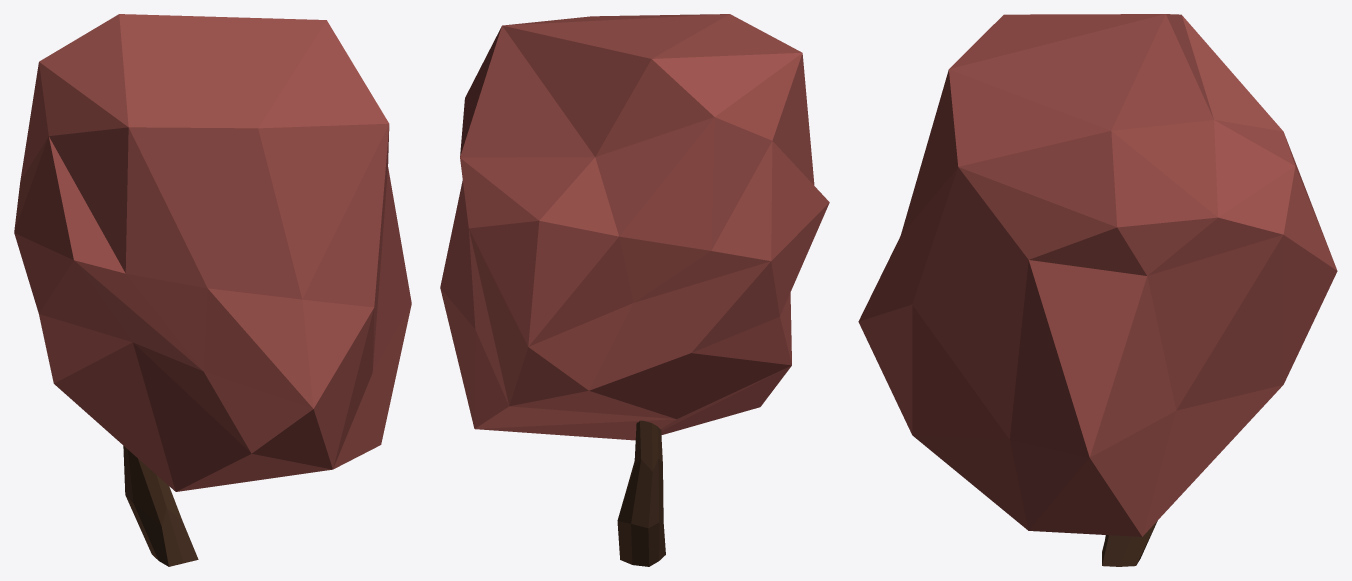
Rendered from Tree_44_Red.fbx.
3 views of the same model, side by side, from view 1: azimuth 30°, elevation 25°; view 2: azimuth 150°, elevation 25°; view 3: azimuth 270°, elevation 25° (orthographic). The views are drawn at different scales.
Visible parts, largest first — view 1: Tree_44_Red_Part_1, Tree_44_Red_Part_2; view 2: Tree_44_Red_Part_1, Tree_44_Red_Part_2; view 3: Tree_44_Red_Part_1, Tree_44_Red_Part_2.
Part boxes in pixels (bbox=[...]): Tree_44_Red_Part_1: bbox=[14, 14, 411, 491]; Tree_44_Red_Part_2: bbox=[123, 446, 198, 566]; Tree_44_Red_Part_1: bbox=[440, 14, 829, 440]; Tree_44_Red_Part_2: bbox=[617, 420, 665, 566]; Tree_44_Red_Part_1: bbox=[858, 14, 1337, 536]; Tree_44_Red_Part_2: bbox=[1102, 520, 1157, 566].
Bounding box in the file's own units: 595 × 825 × 677.
